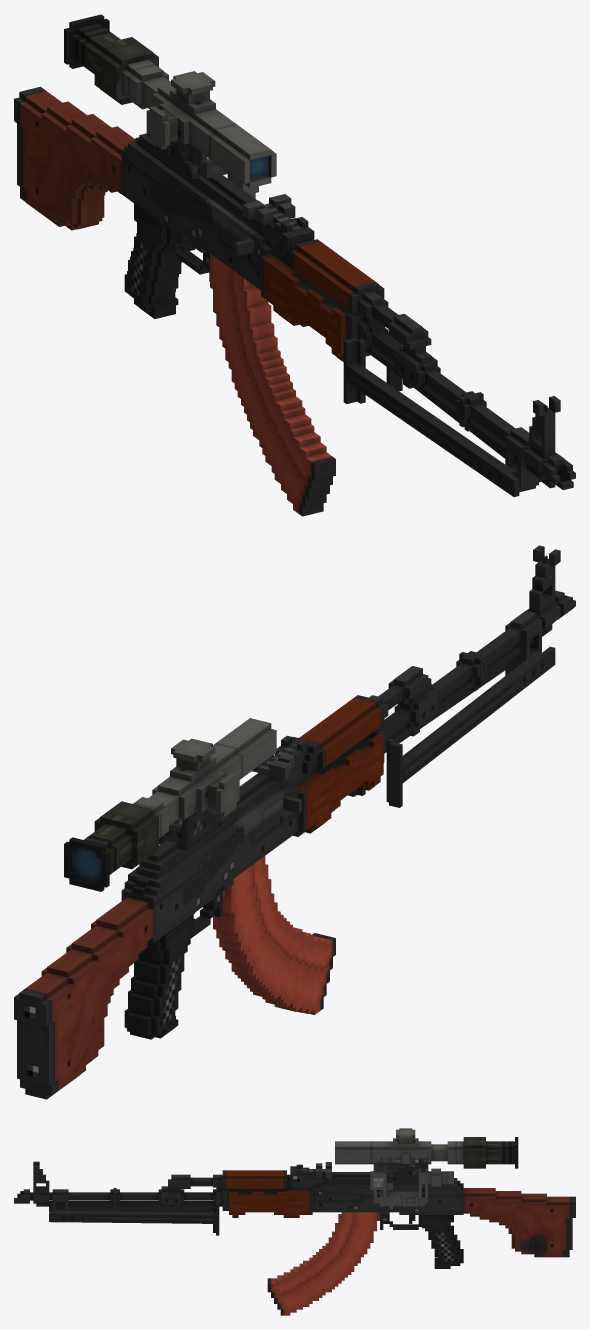
File: RD_RPK.glb
The picture shows the model from 3 angles, top to bottom: view 1: azimuth 30°, elevation 25°; view 2: azimuth 150°, elevation 25°; view 3: azimuth 270°, elevation 25°; orthographic projection. The views are drawn at different scales.
Visible parts, largest first — view 1: RPK, RPK_CLIP, SCOPE_PSO1, RPK_DIPOD_LEG1, SCOPE_EOTECH, RPK_DIPOD_LEG2, SCOPE_TASCO; view 2: RPK, SCOPE_PSO1, RPK_CLIP, RPK_DIPOD_LEG1, SCOPE_EOTECH; view 3: RPK, SCOPE_PSO1, RPK_CLIP, RPK_DIPOD_LEG2, RPK_DIPOD_LEG1, SCOPE_TASCO, SCOPE_EOTECH.
Boxes of the visible parts, x1=… form: RPK: x1=14, y1=86, x2=575, y2=492; RPK_CLIP: x1=210, y1=253, x2=335, y2=516; SCOPE_PSO1: x1=64, y1=14, x2=276, y2=198; RPK_DIPOD_LEG1: x1=343, y1=338, x2=519, y2=496; SCOPE_EOTECH: x1=155, y1=142, x2=228, y2=178; RPK_DIPOD_LEG2: x1=386, y1=333, x2=555, y2=488; SCOPE_TASCO: x1=164, y1=140, x2=217, y2=178; RPK: x1=14, y1=545, x2=575, y2=1099; SCOPE_PSO1: x1=64, y1=718, x2=276, y2=891; RPK_CLIP: x1=213, y1=856, x2=335, y2=1014; RPK_DIPOD_LEG1: x1=386, y1=646, x2=555, y2=807; SCOPE_EOTECH: x1=159, y1=806, x2=218, y2=850; RPK: x1=14, y1=1161, x2=575, y2=1268; SCOPE_PSO1: x1=335, y1=1128, x2=518, y2=1206; RPK_CLIP: x1=267, y1=1212, x2=379, y2=1315; RPK_DIPOD_LEG2: x1=49, y1=1199, x2=219, y2=1235; RPK_DIPOD_LEG1: x1=49, y1=1206, x2=212, y2=1212; SCOPE_TASCO: x1=380, y1=1146, x2=428, y2=1180; SCOPE_EOTECH: x1=386, y1=1159, x2=428, y2=1180.
Bounding box in the file's own units: 0.1378 × 0.6101 × 1.72.
6 materials, 6 textured.
